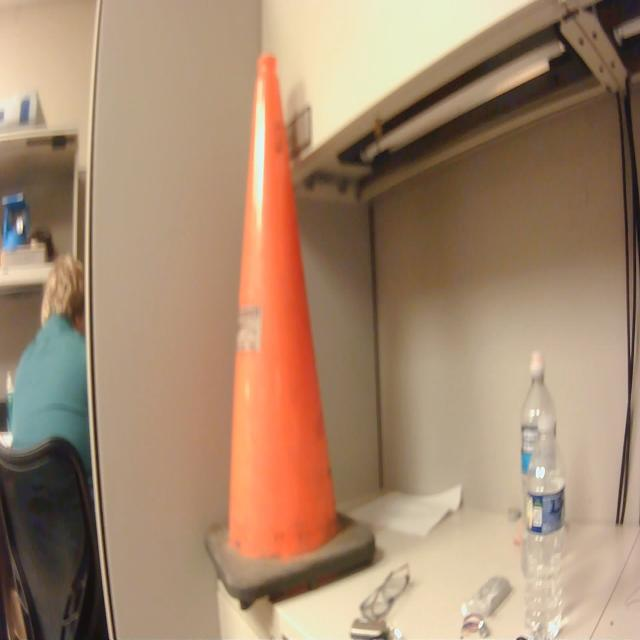traffic cone: (199, 48, 383, 621)
